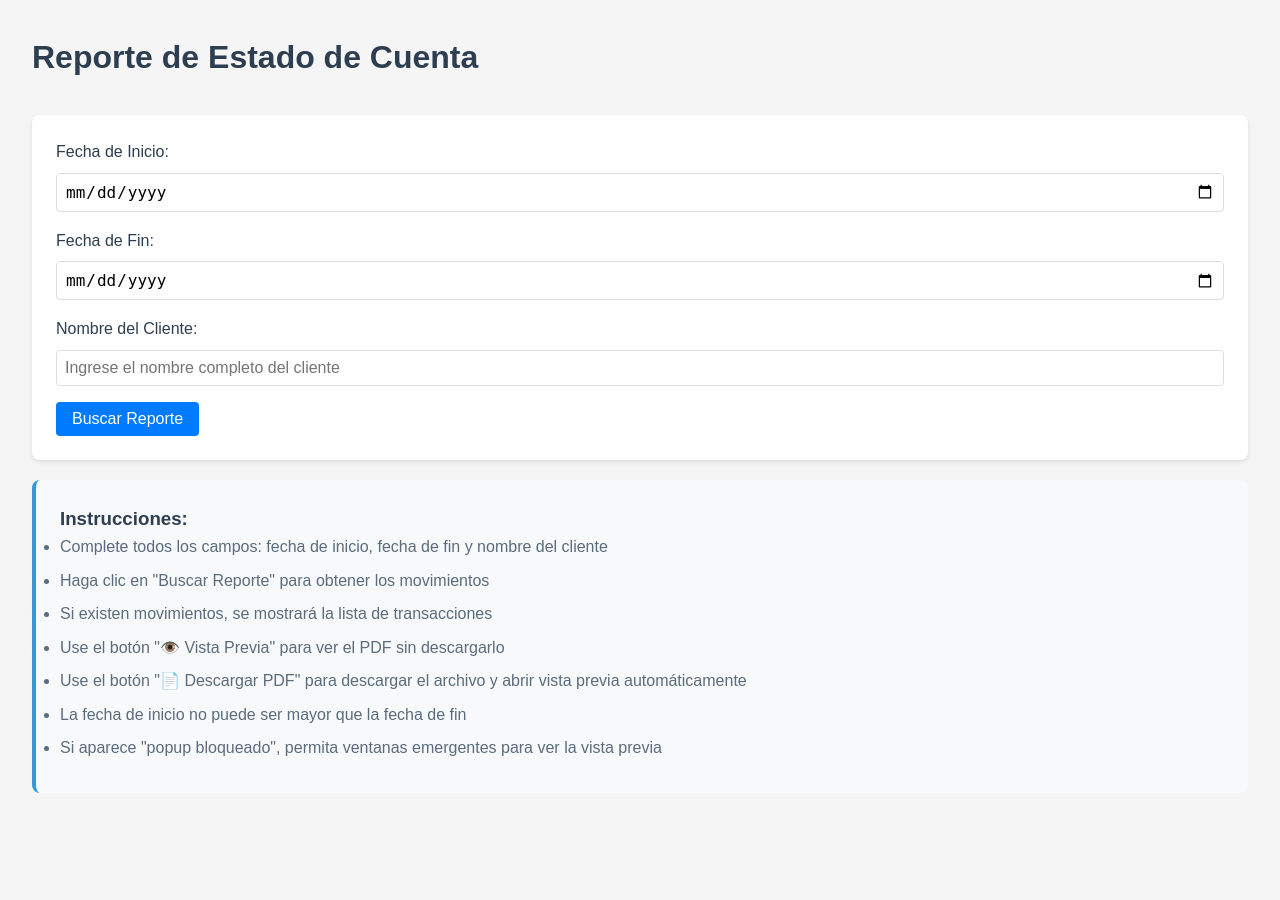
Test: TransactionReport › should handle empty report data
Type "2025-09-01" into the date field labelled "Fecha de Inicio:" at (640, 192), box x1=56 y1=173 x2=1224 y2=212
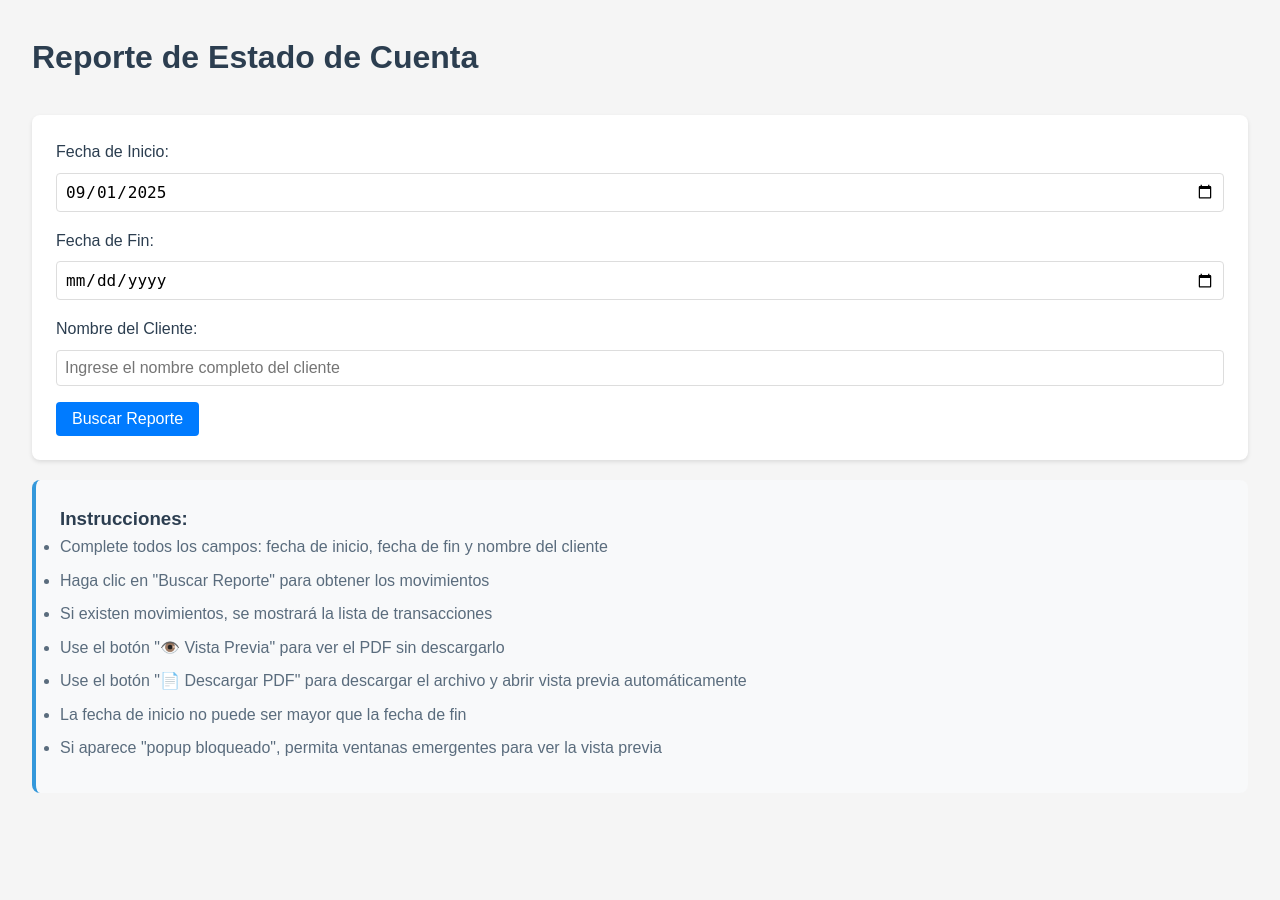
Type "2025-09-29" into the date field labelled "Fecha de Fin:" at (640, 281), box x1=56 y1=261 x2=1224 y2=300
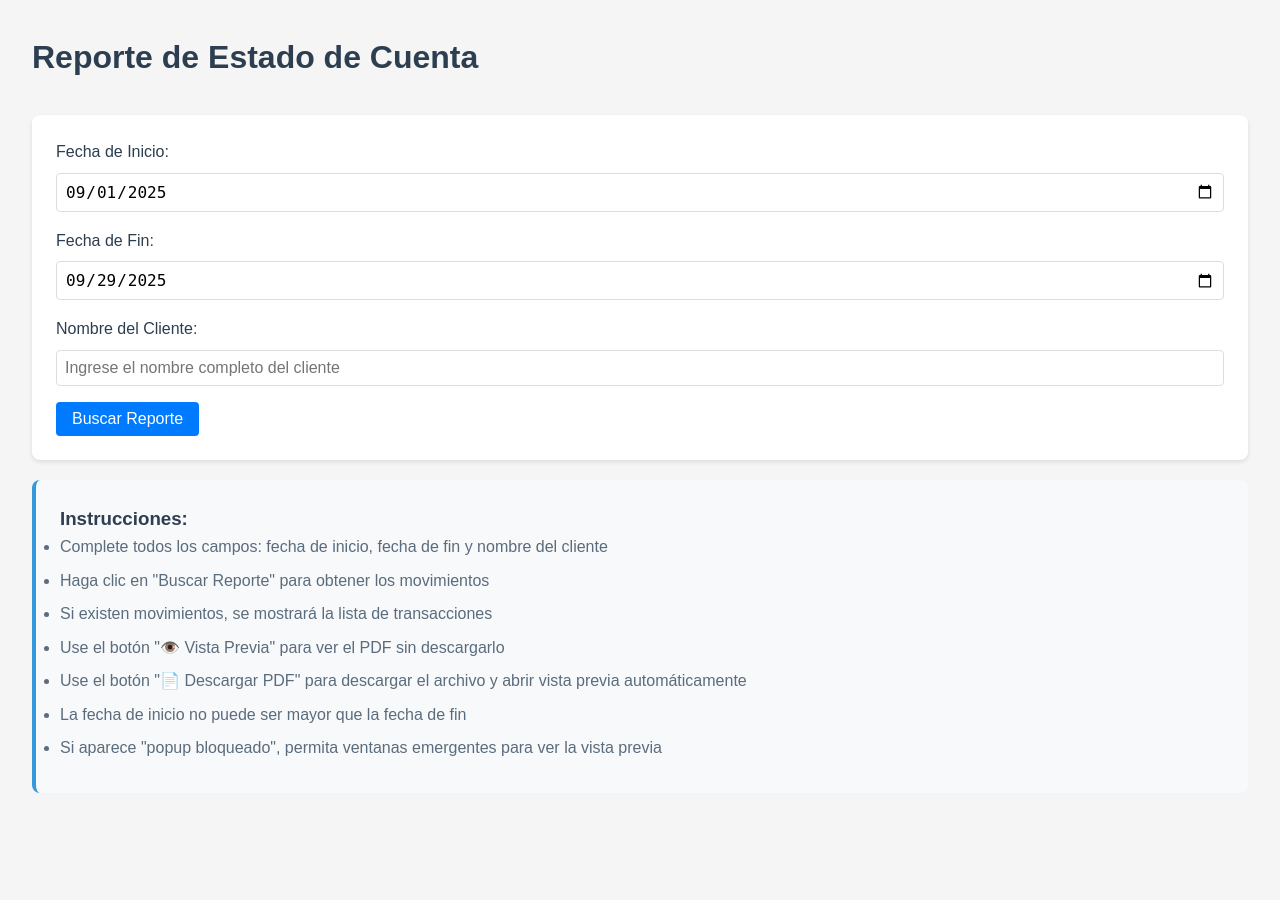
Type "Jose Lema" into the field labelled "Nombre del Cliente:" at (640, 368), box x1=56 y1=350 x2=1224 y2=386
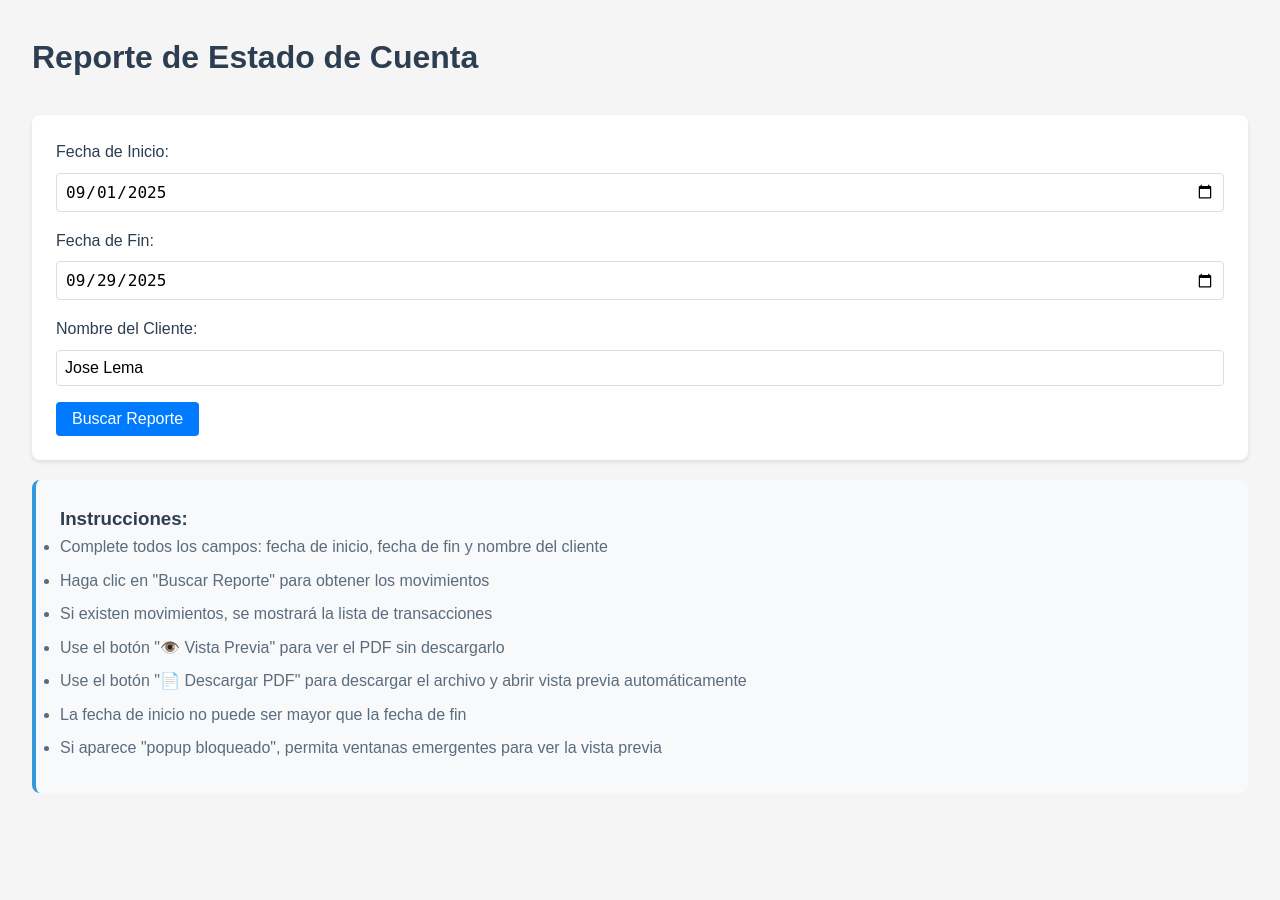
Click the button "Buscar Reporte" at (128, 419), box x1=56 y1=402 x2=199 y2=436
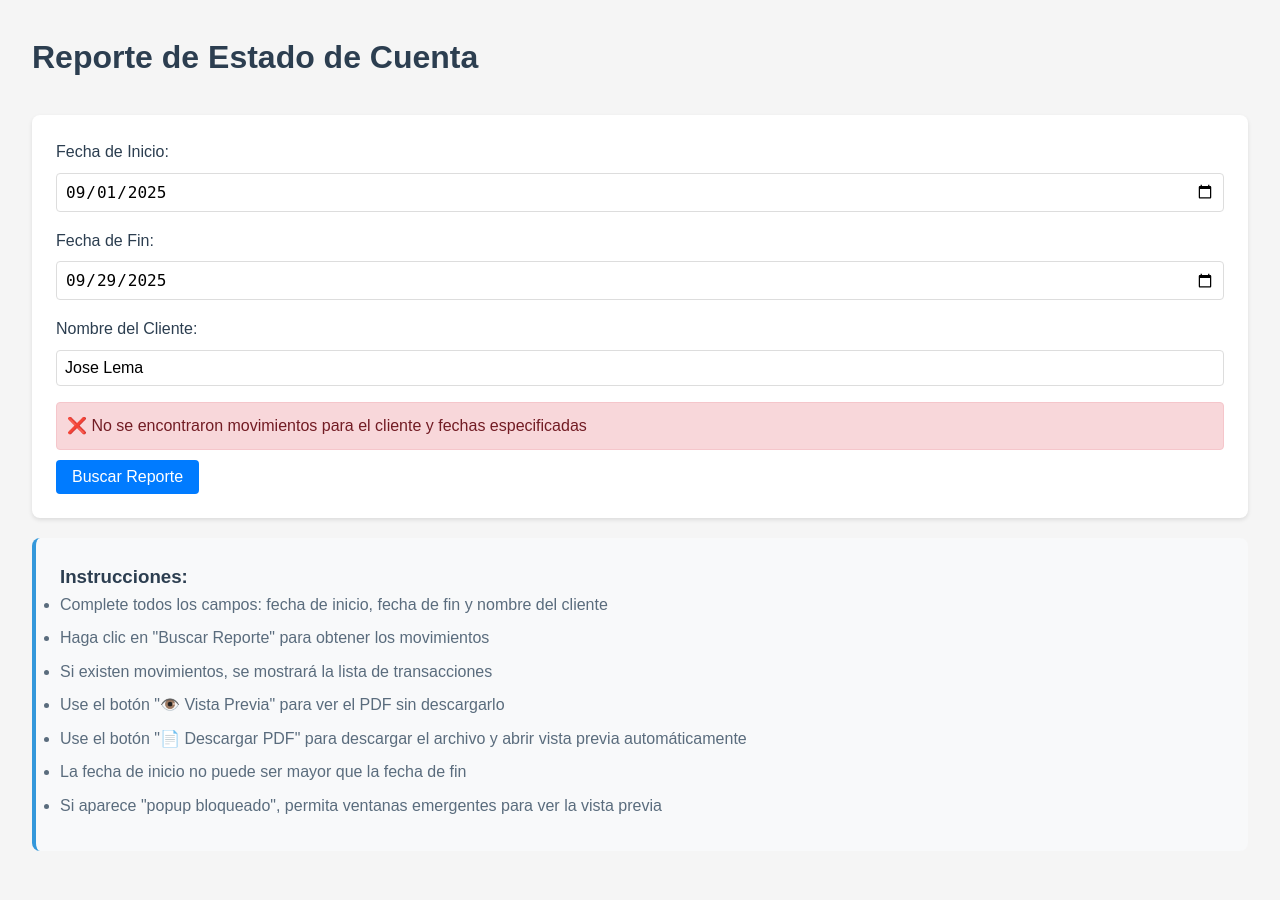
Now the text "No se encontraron movimientos para el cliente" is shown, box x1=67 y1=417 x2=587 y2=434
